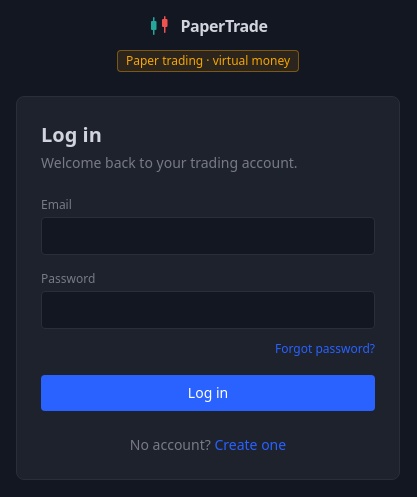
Test: ForgotPassword › is linked from the login page
What coordinates should you click on to do the following:
click the link "Forgot password?"
I would click on:
 (325, 348)
Its box is [275,340,375,357].
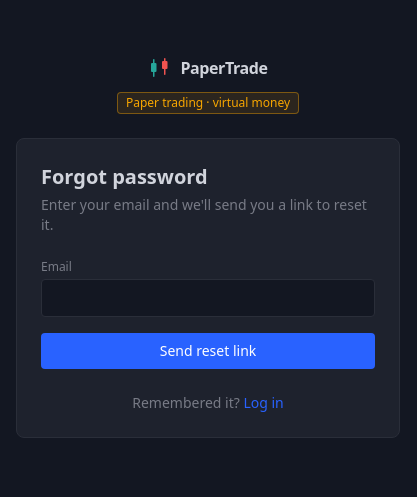
Expected: the heading "Forgot password" is shown, [41,163,208,190]
